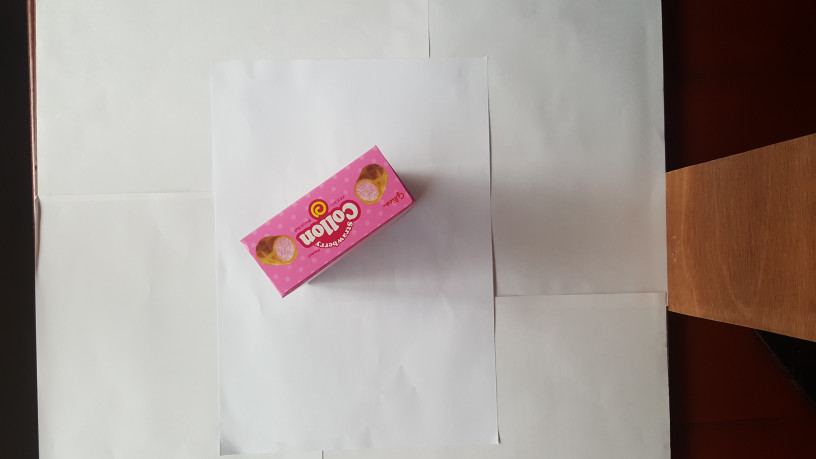collon-strawberry: (241, 142, 416, 301)
